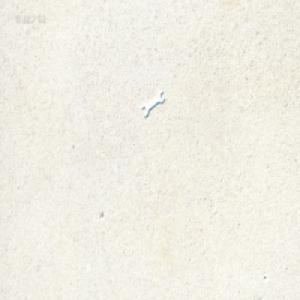Wrench: (141, 87, 164, 117)
